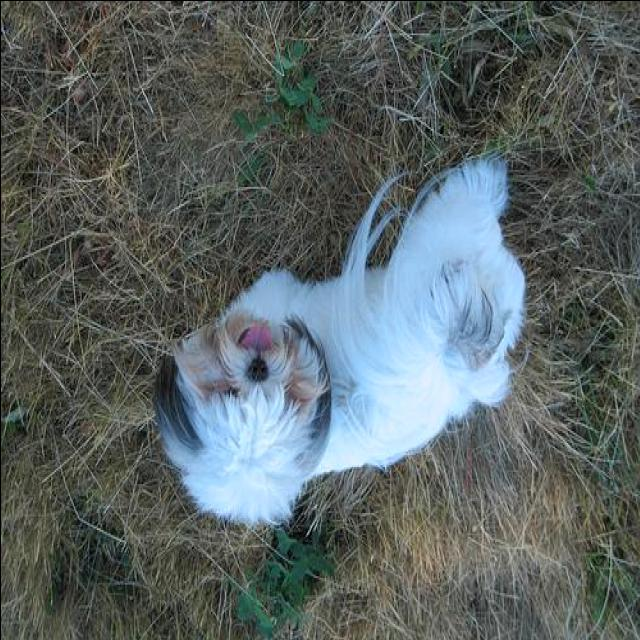shih_tzu: (151, 156, 525, 524)
